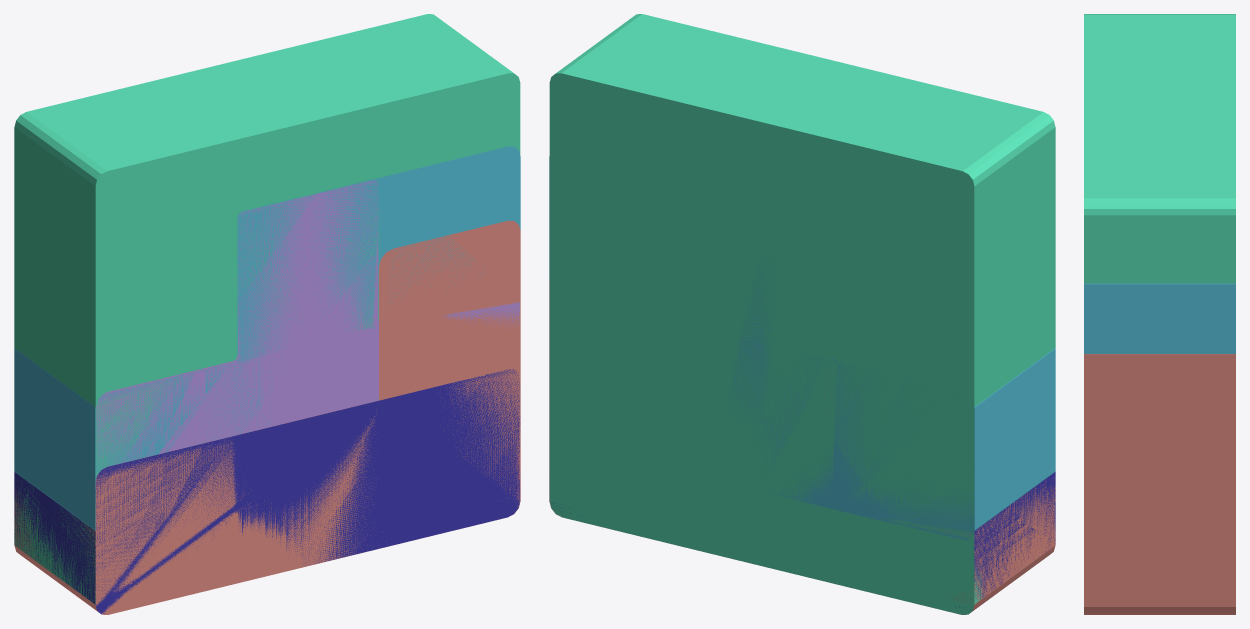
File: Tetris.fbx
3 renders of one model, left to right at view 1: azimuth 30°, elevation 25°; view 2: azimuth 150°, elevation 25°; view 3: azimuth 270°, elevation 25°, orthographic. The views are drawn at different scales.
Visible parts, largest first — view 1: O-The Square, I-Straight Line, L-Shaped, S-The zig-zag, T-SHAPED; view 2: O-The Square, S-The zig-zag, L-Shaped, I-Straight Line; view 3: O-The Square, L-Shaped, S-The zig-zag.
Part boxes in pixels (x1,y1,x2,y2): O-The Square: [14, 14, 520, 604]; I-Straight Line: [14, 369, 520, 613]; L-Shaped: [14, 220, 520, 614]; S-The zig-zag: [14, 146, 520, 530]; T-SHAPED: [96, 180, 519, 496]; O-The Square: [549, 14, 1055, 614]; S-The zig-zag: [549, 156, 1055, 540]; L-Shaped: [549, 279, 1055, 614]; I-Straight Line: [551, 472, 1055, 610]; O-The Square: [1084, 14, 1235, 283]; L-Shaped: [1084, 354, 1235, 614]; S-The zig-zag: [1084, 283, 1235, 353].
Size of the model in its own units: 300 by 299 by 99.
